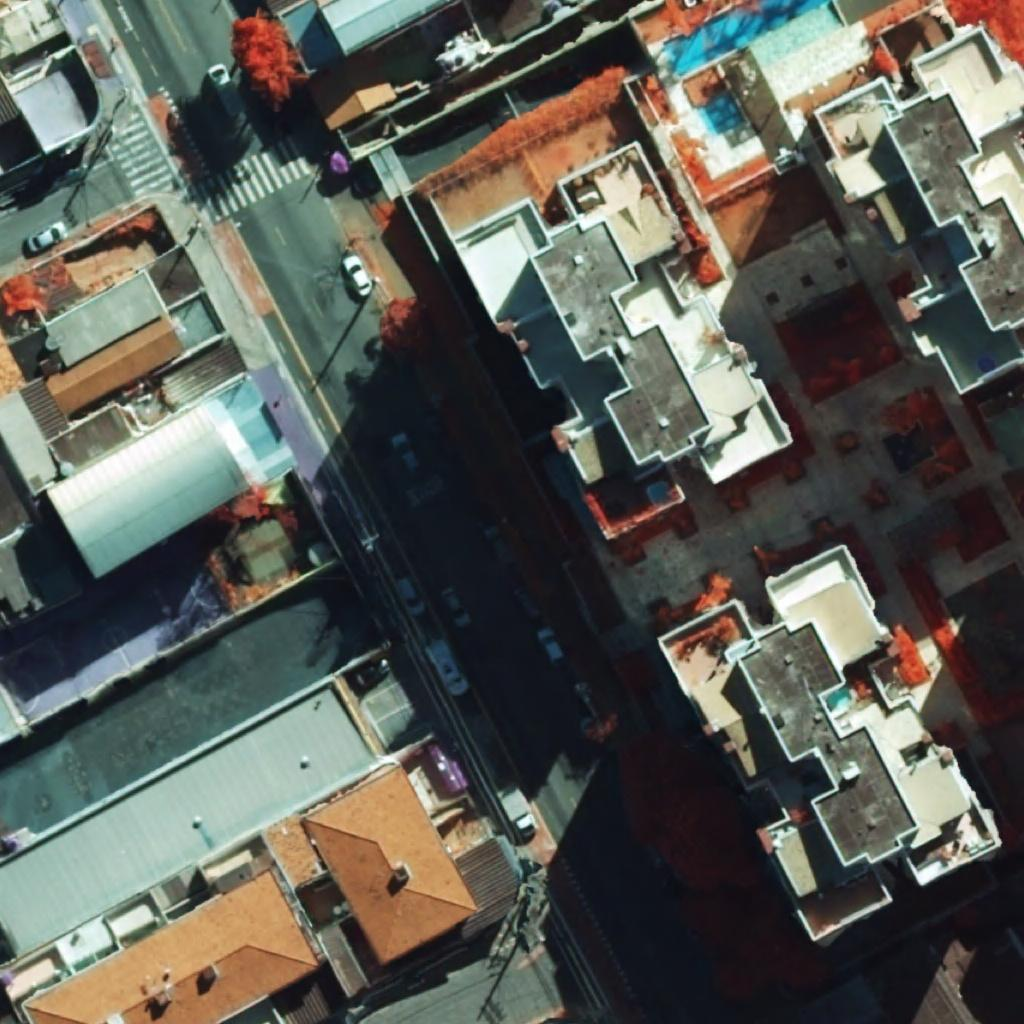pool: (698, 91, 745, 136)
